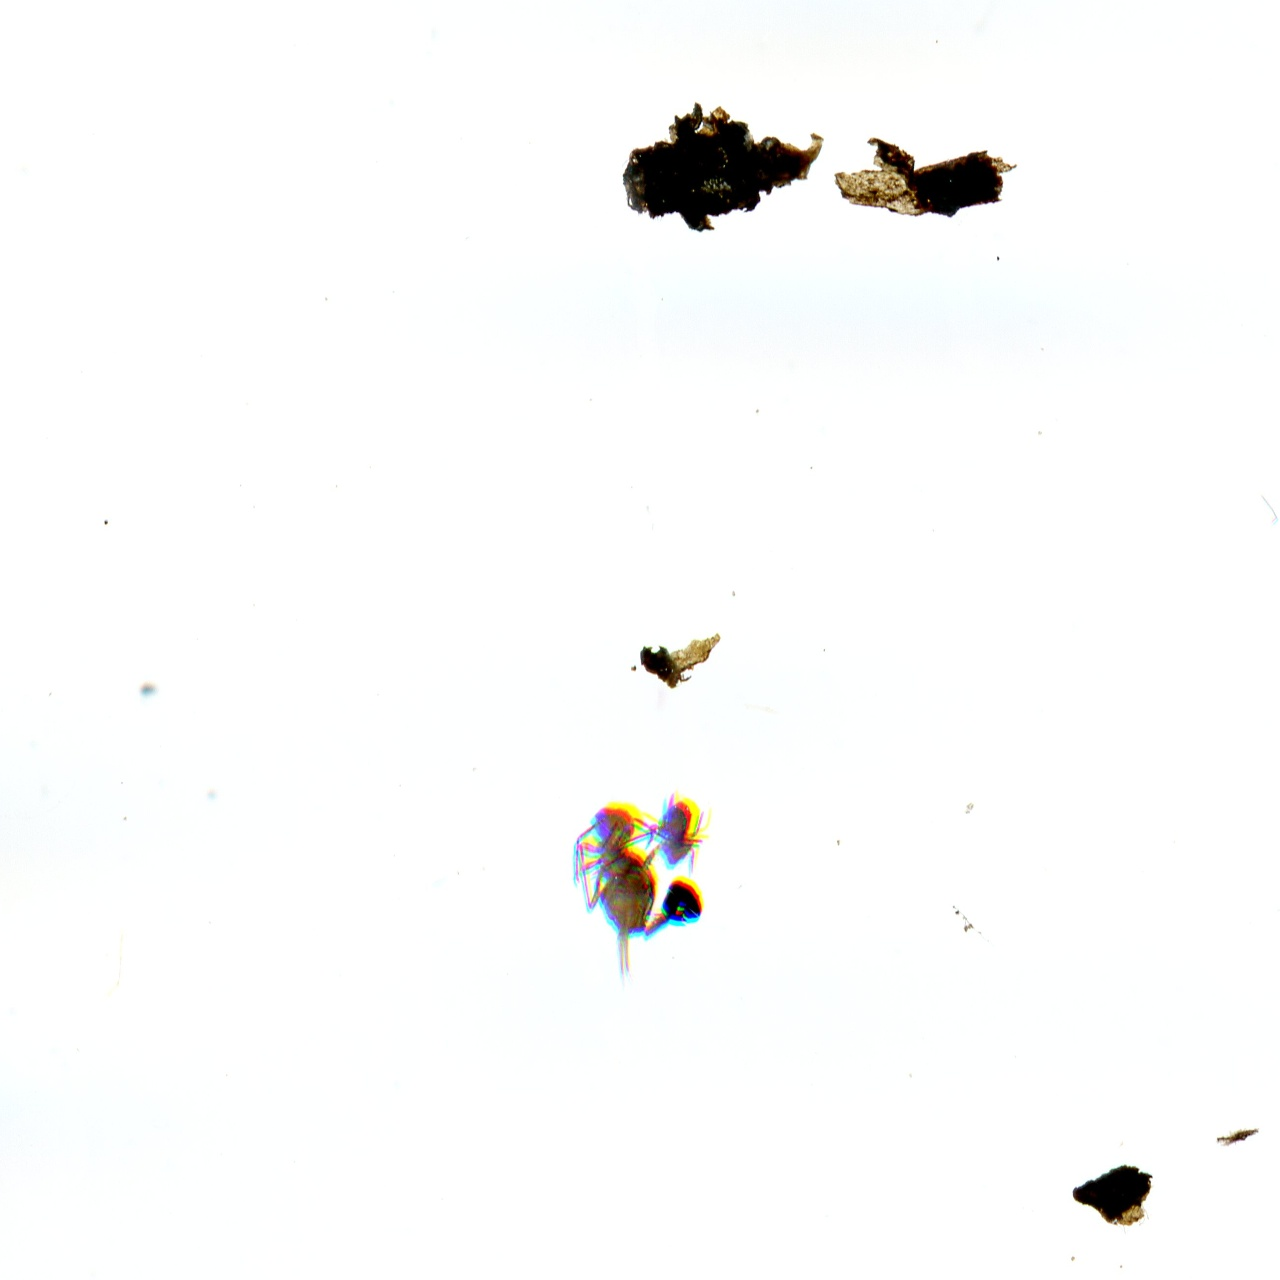arthropod: (565, 797, 662, 986), (635, 792, 720, 883)
